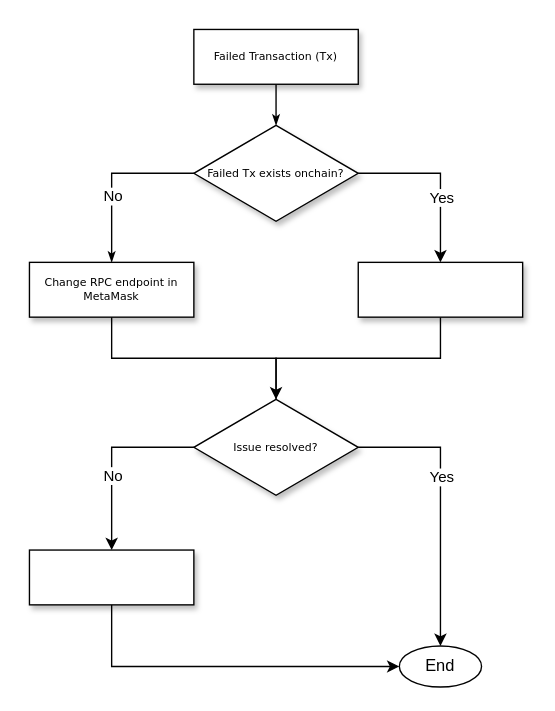
Some shapes in this 555 by 711 pixel diagram are drawn without their labels. The centre of each missing label's shape, as x and y in pixels:
"Check common reasons for on-chain failed Tx's" belongs at point 441,291.
"Contact us on Discord channel #tech-support for assistance" belongs at point 112,578.
